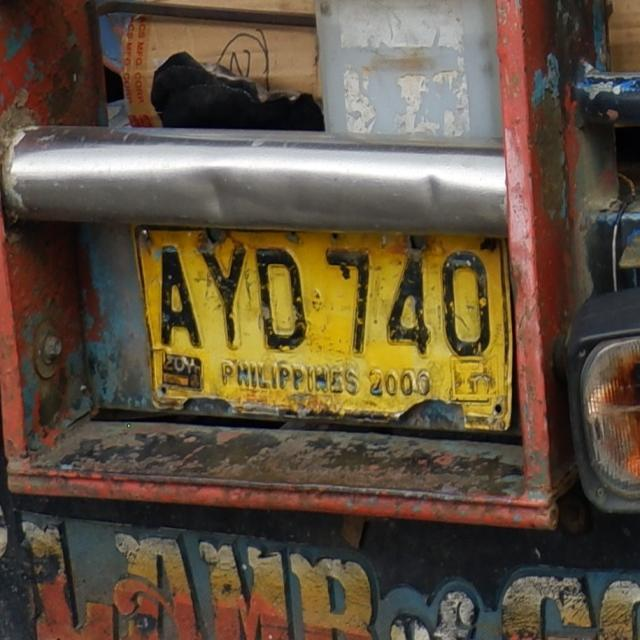LicensePlate: (111, 207, 525, 442)
